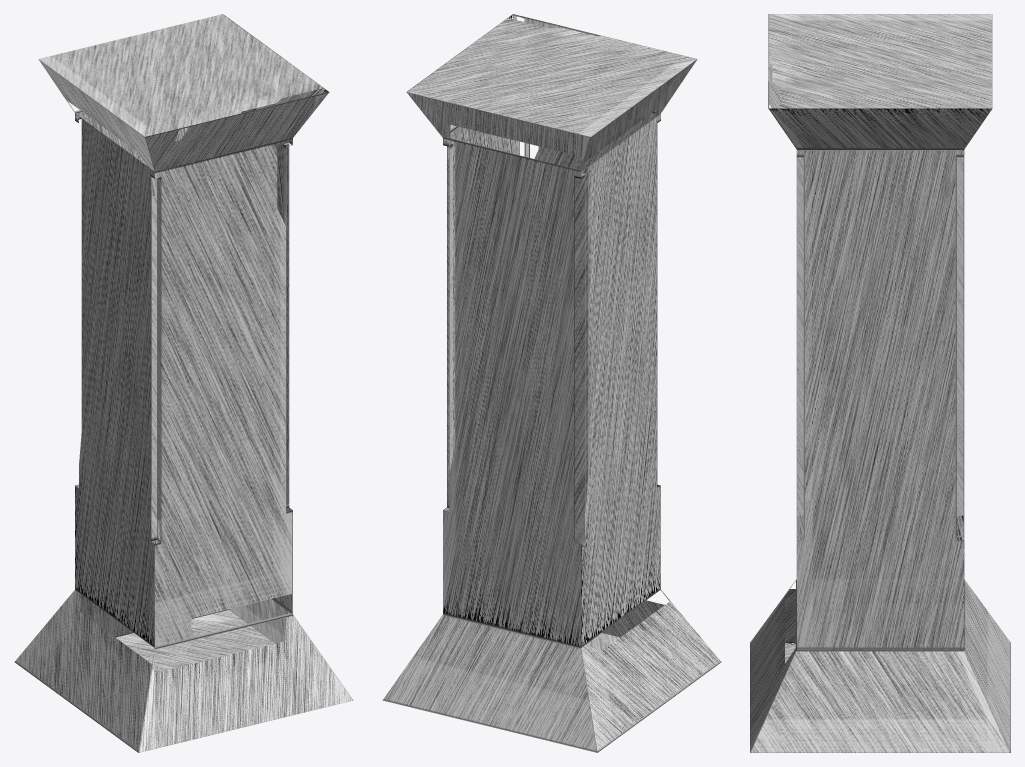
The model's file is goalpost.obj.
3 renders of one model, left to right at view 1: azimuth 30°, elevation 25°; view 2: azimuth 150°, elevation 25°; view 3: azimuth 270°, elevation 25°, orthographic. The views are drawn at different scales.
Parts seen in each view (by area): view 1: Cube; view 2: Cube; view 3: Cube.
Part boxes in pixels (x1,y1,x2,y2): Cube: (14, 14, 353, 752); Cube: (382, 14, 721, 752); Cube: (750, 14, 1010, 752).
Size of the model in its own units: 3.11 by 8.38 by 3.11.
